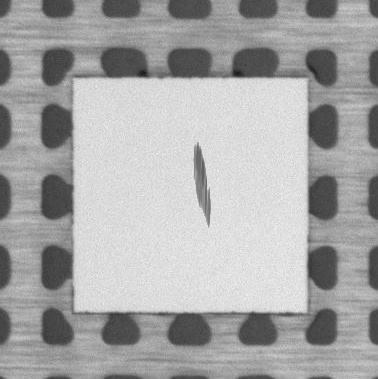DIE_INK: (192, 143, 210, 227)
